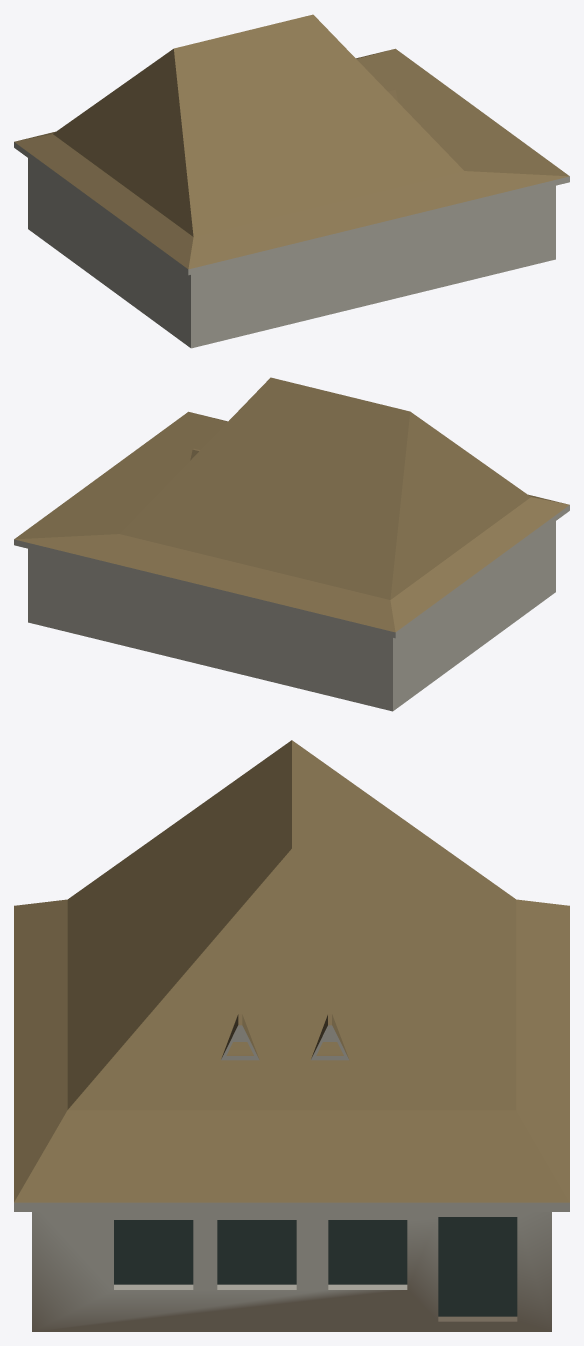
The picture shows the model from 3 angles, top to bottom: view 1: azimuth 30°, elevation 25°; view 2: azimuth 150°, elevation 25°; view 3: azimuth 270°, elevation 25°; orthographic projection. The views are drawn at different scales.
Parts seen in each view (by area): view 1: pCube12:PIV; view 2: pCube12:PIV; view 3: pCube12:PIV.
Boxes of the visible parts, bbox=[...] form: pCube12:PIV: bbox=[14, 14, 569, 348]; pCube12:PIV: bbox=[14, 377, 569, 711]; pCube12:PIV: bbox=[14, 740, 569, 1331].
Bounding box in the file's own units: 18.05 × 10.16 × 14.29.
